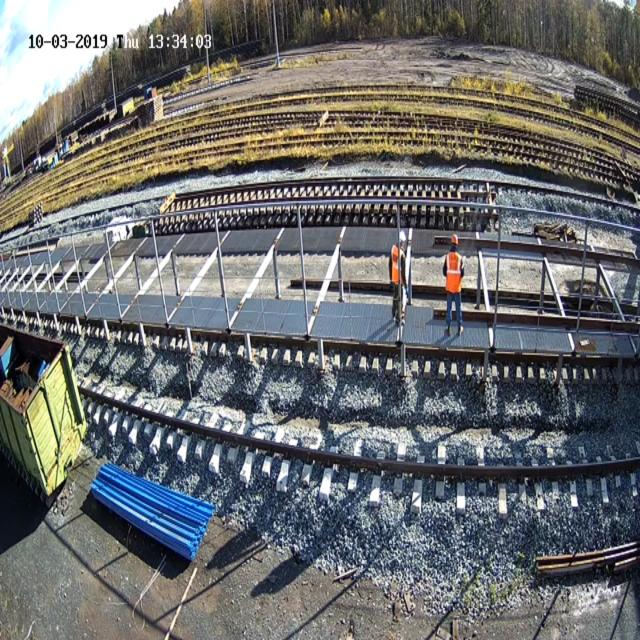Helmet: (451, 234, 459, 245), (399, 230, 406, 242)
Person: (442, 234, 465, 336), (389, 230, 407, 323)
